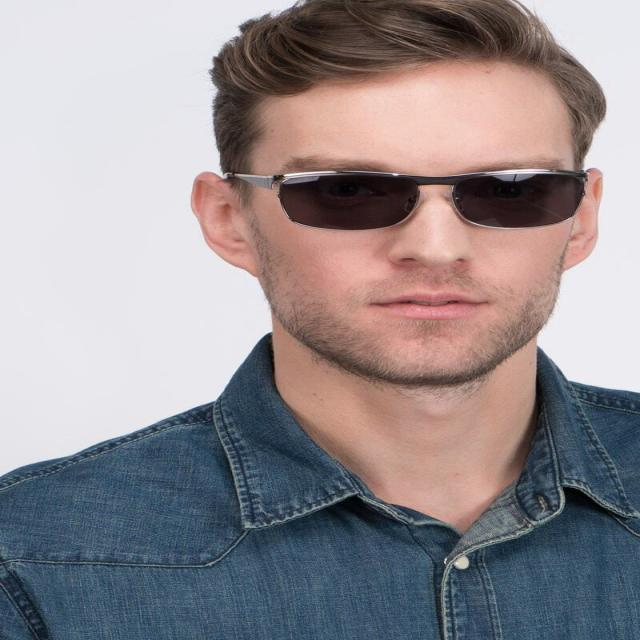2_gafas: (222, 166, 589, 232)
